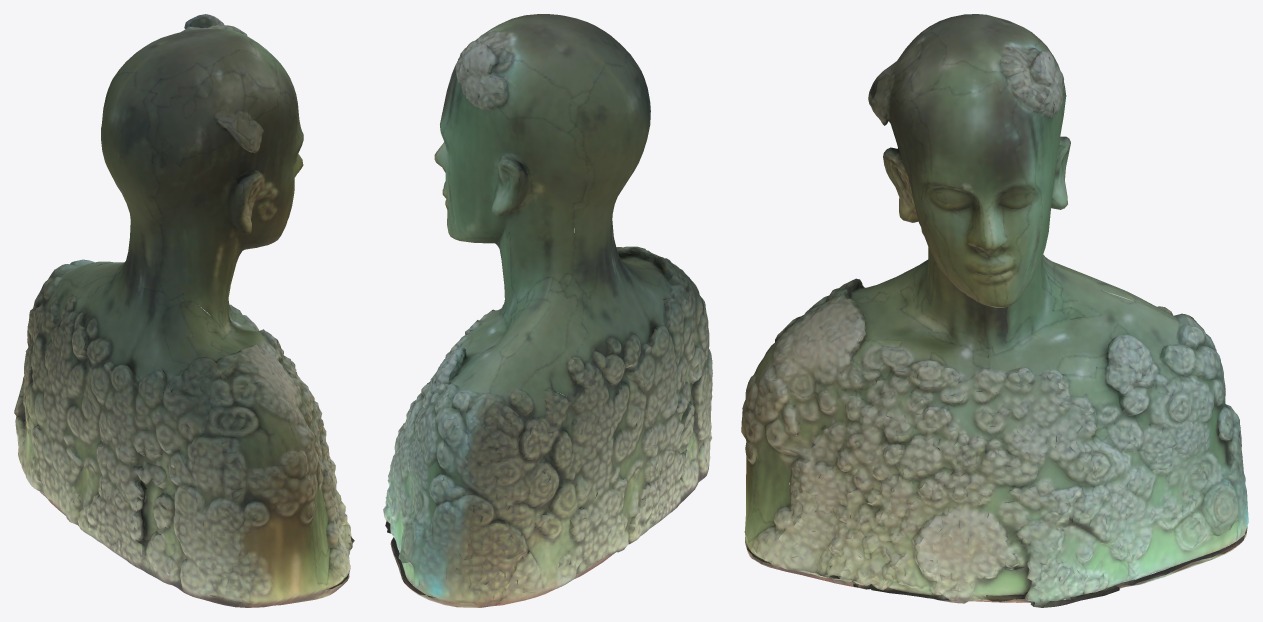
The model's file is Statue (game).glb.
The picture shows the model from 3 angles, left to right: view 1: azimuth 30°, elevation 25°; view 2: azimuth 150°, elevation 25°; view 3: azimuth 270°, elevation 25°; orthographic projection. The views are drawn at different scales.
Visible parts, largest first — view 1: Statue 1.002; view 2: Statue 1.002; view 3: Statue 1.002.
Part boxes in pixels (x1=…): Statue 1.002: x1=14, y1=14, x2=354, y2=607; Statue 1.002: x1=383, y1=14, x2=712, y2=607; Statue 1.002: x1=741, y1=14, x2=1248, y2=607.
Bounding box in the file's own units: 0.2594 × 0.5197 × 0.4608.
Materials: 1 (1 with a texture image).
